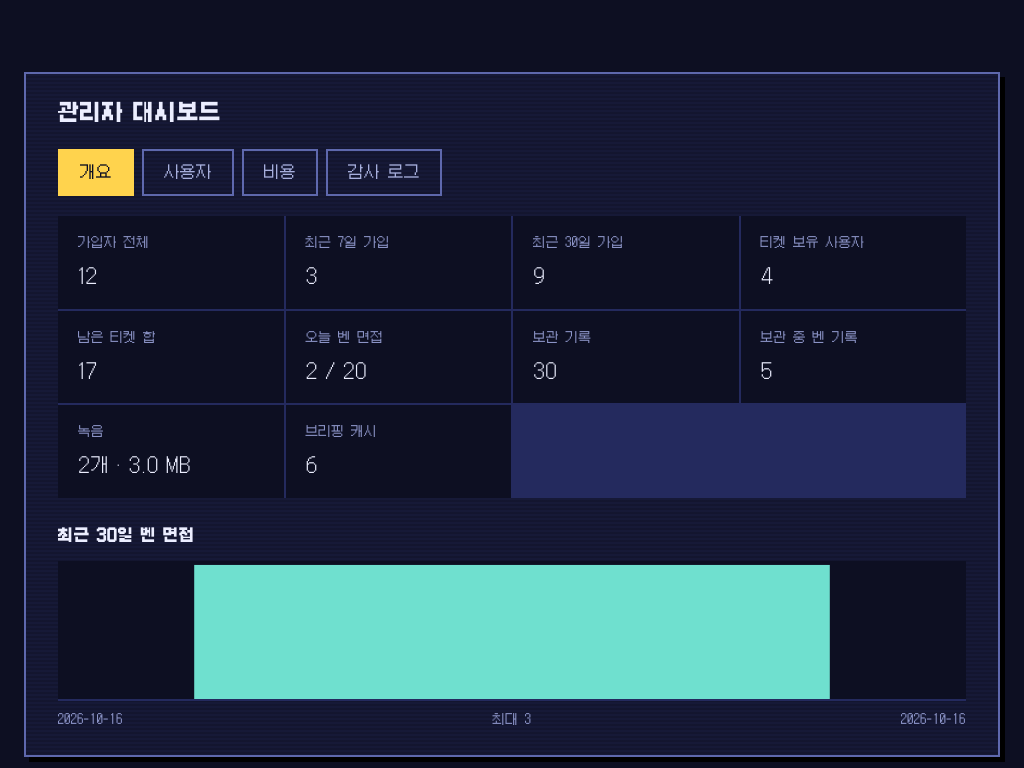
Test: AdminView — 탭·사용자 › 탭을 누르면 그 탭 데이터를 읽어 보여 준다
Click the tab with test id "admin-tab-audit": (384, 172) [326,149,442,196]
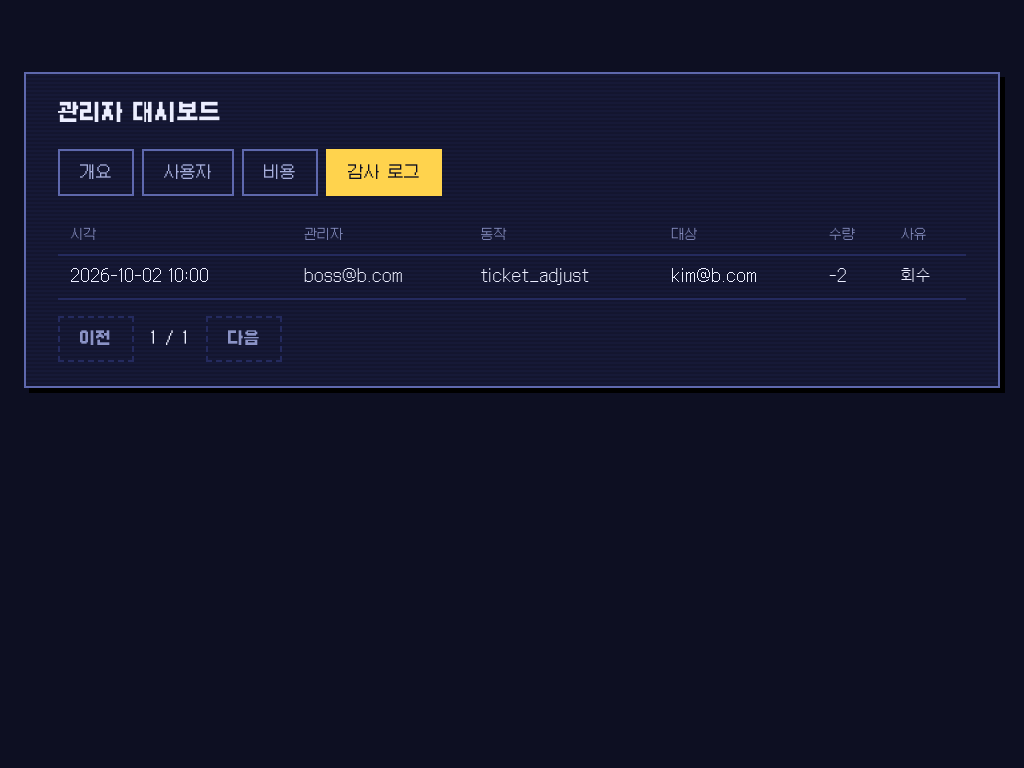
Expected: the number of rows with test id "admin-audit-row" is 1, [58,255,966,299]
